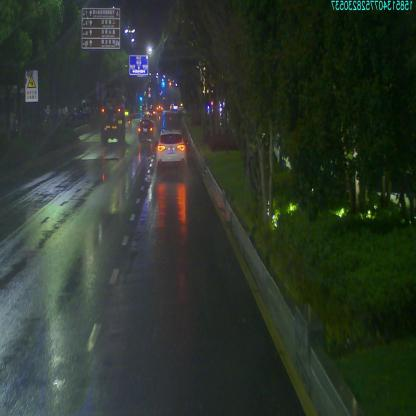traffic-light: (160, 81, 165, 89), (168, 80, 173, 85)
